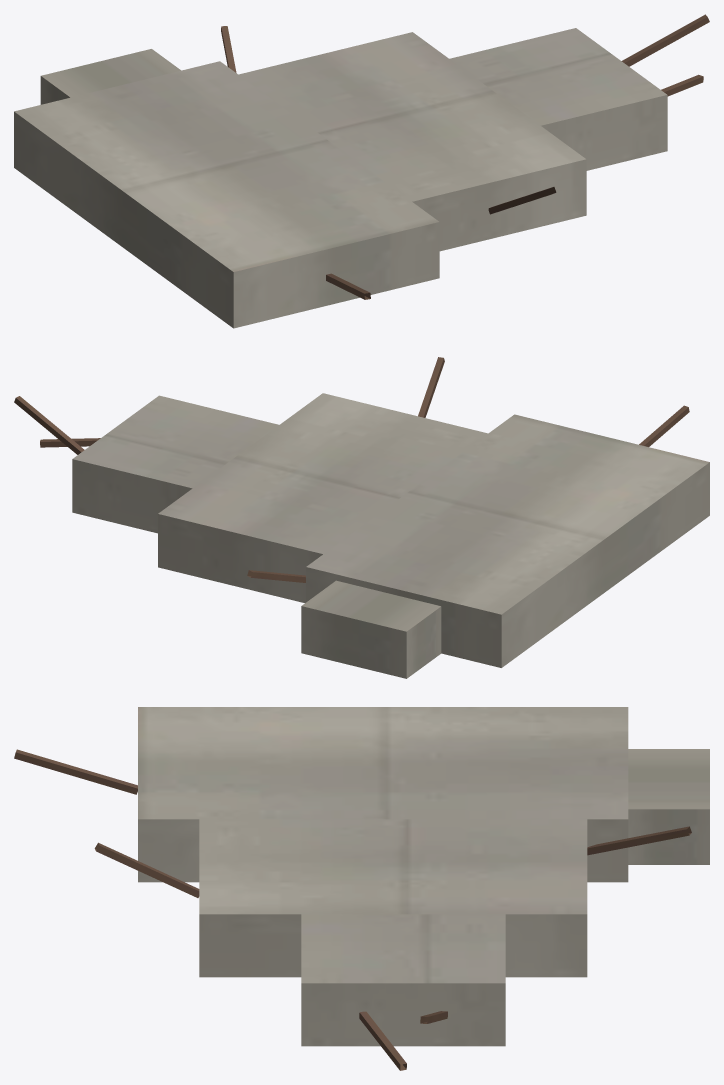
File: debris_tokyo_concrete_slab.glb
3 renders of one model, top to bottom at view 1: azimuth 30°, elevation 25°; view 2: azimuth 150°, elevation 25°; view 3: azimuth 270°, elevation 25°, orthographic. The views are drawn at different scales.
Visible parts, largest first — view 1: debris_tokyo_concrete_slab; view 2: debris_tokyo_concrete_slab; view 3: debris_tokyo_concrete_slab.
Boxes of the visible parts, x1,y1,x2,y2 form: debris_tokyo_concrete_slab: (14, 14, 709, 328); debris_tokyo_concrete_slab: (14, 357, 709, 678); debris_tokyo_concrete_slab: (14, 707, 709, 1070).
Size of the model in its own units: 3.81 by 0.485 by 3.41.
Materials: 1 (1 with a texture image).
